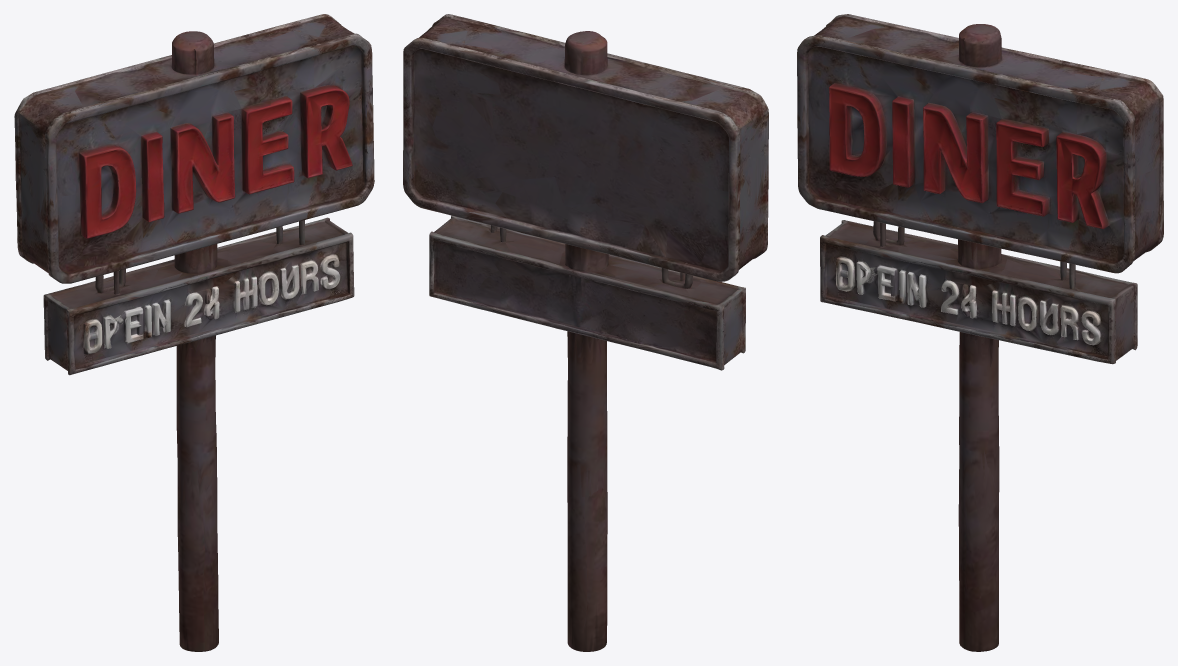
File: sign_diner_d_idle.glb
3 views of the same model, side by side, from view 1: azimuth 30°, elevation 25°; view 2: azimuth 150°, elevation 25°; view 3: azimuth 330°, elevation 25° (orthographic).
Parts seen in each view (by area): view 1: tripo_node_000cd81c-f21f-4539-b980-c5a7a98d25ac; view 2: tripo_node_000cd81c-f21f-4539-b980-c5a7a98d25ac; view 3: tripo_node_000cd81c-f21f-4539-b980-c5a7a98d25ac.
Boxes of the visible parts, x1,y1,x2,y2 form: tripo_node_000cd81c-f21f-4539-b980-c5a7a98d25ac: [14, 14, 374, 651]; tripo_node_000cd81c-f21f-4539-b980-c5a7a98d25ac: [403, 14, 768, 651]; tripo_node_000cd81c-f21f-4539-b980-c5a7a98d25ac: [797, 14, 1163, 651].
Size of the model in its own units: 1.14 by 2 by 0.2401.
1 material, 1 textured.
